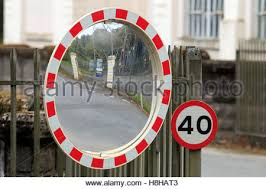Speed_limit_40km: (171, 99, 218, 150)
